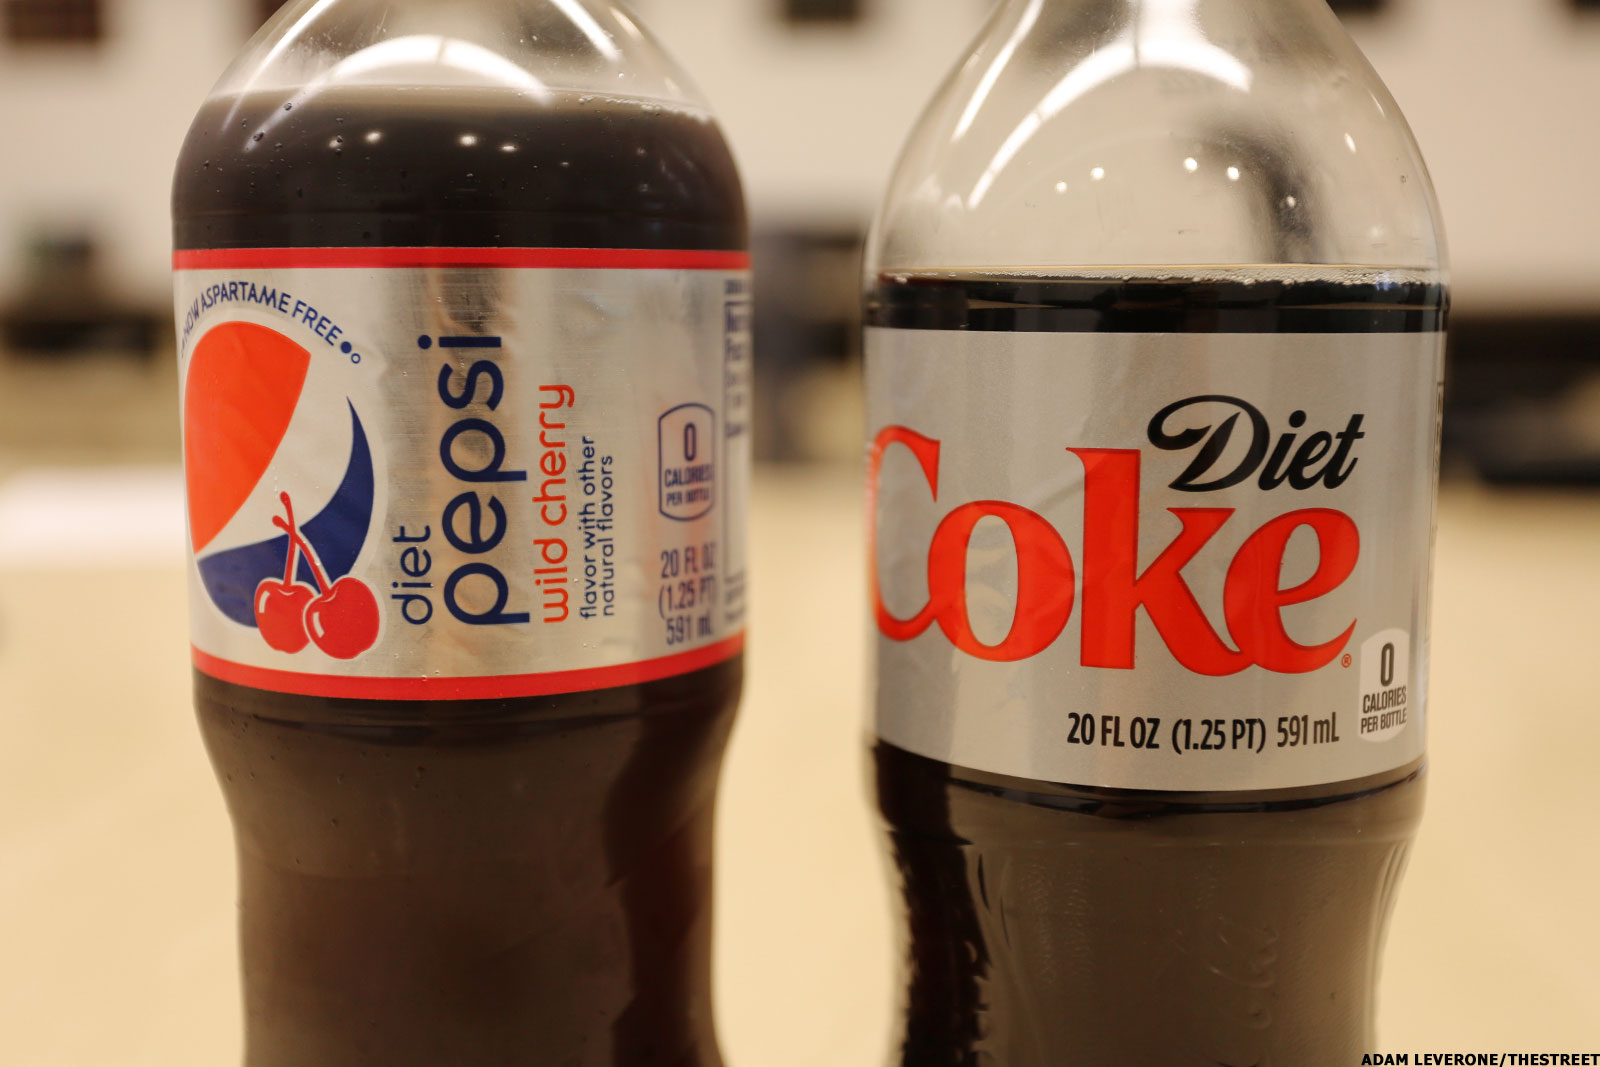pepsi: (177, 322, 376, 642), (177, 329, 376, 642)
